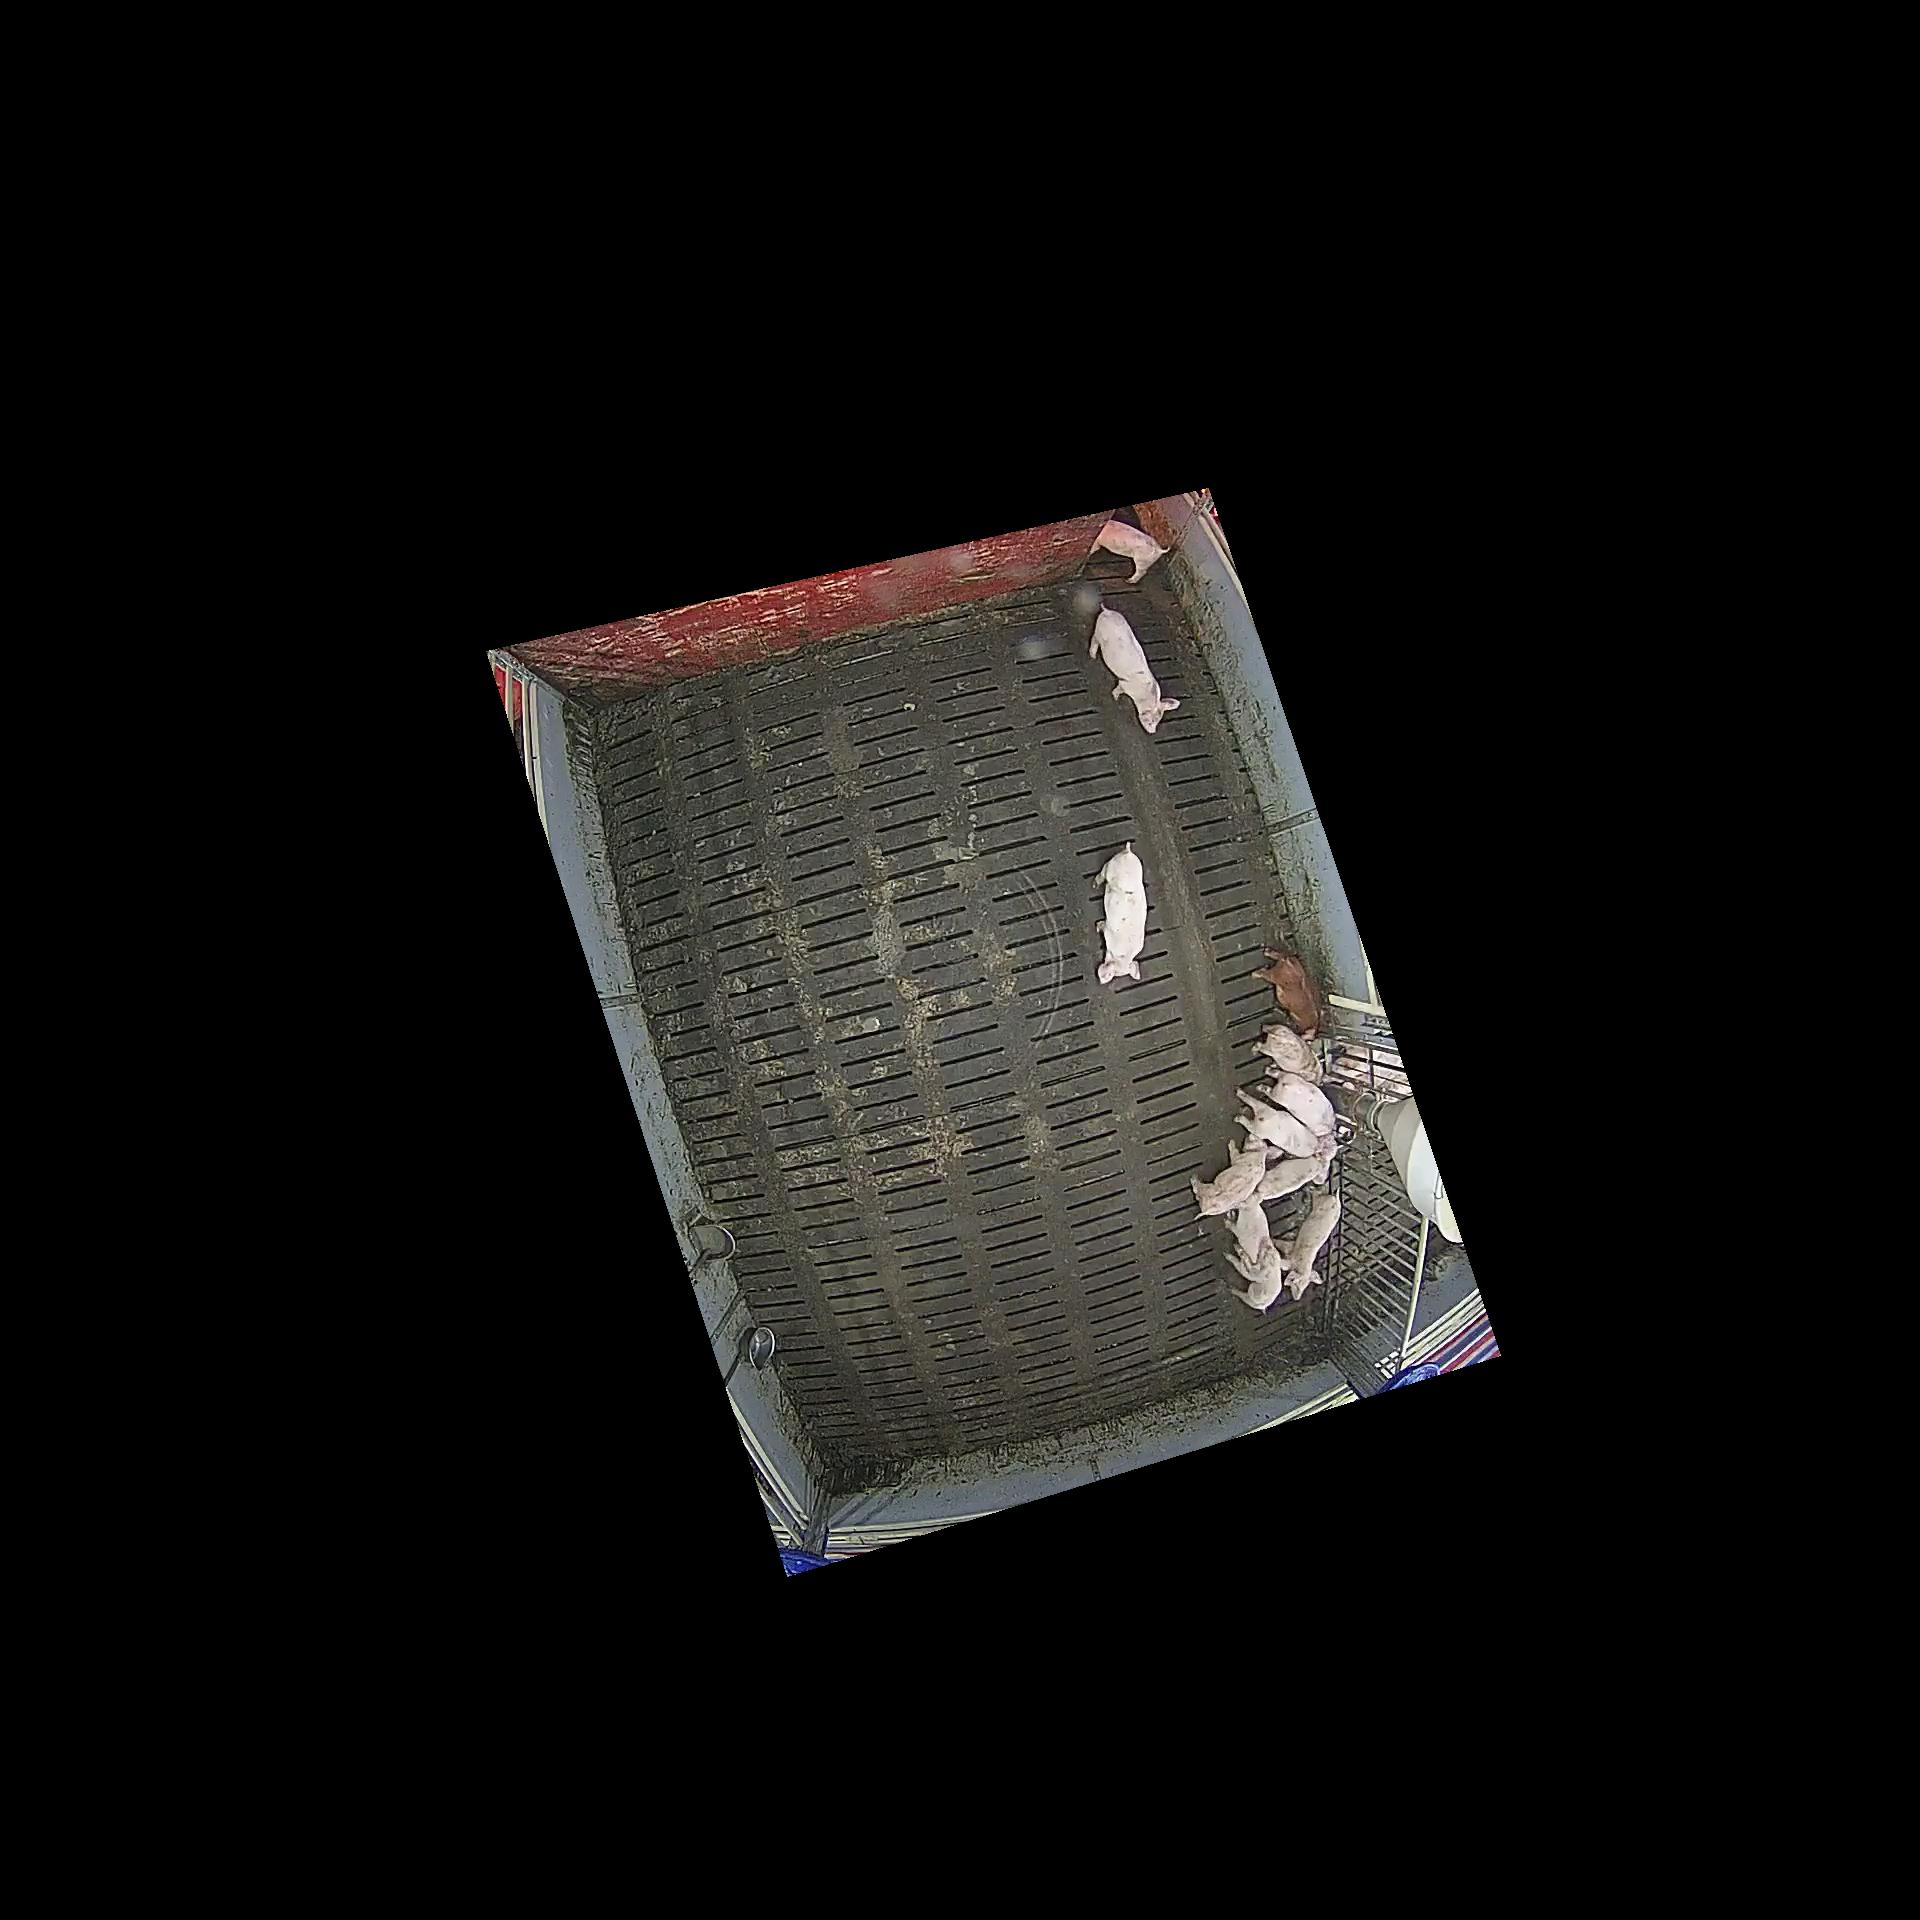pig: (1088, 601, 1180, 733), (1092, 839, 1148, 986), (1190, 1134, 1284, 1220), (1276, 1187, 1342, 1299), (1250, 946, 1324, 1039), (1234, 1088, 1324, 1155), (1255, 1065, 1335, 1134), (1222, 1236, 1289, 1312), (1090, 520, 1166, 584), (1250, 1022, 1327, 1081), (1259, 1157, 1324, 1199), (1225, 1194, 1269, 1255)
